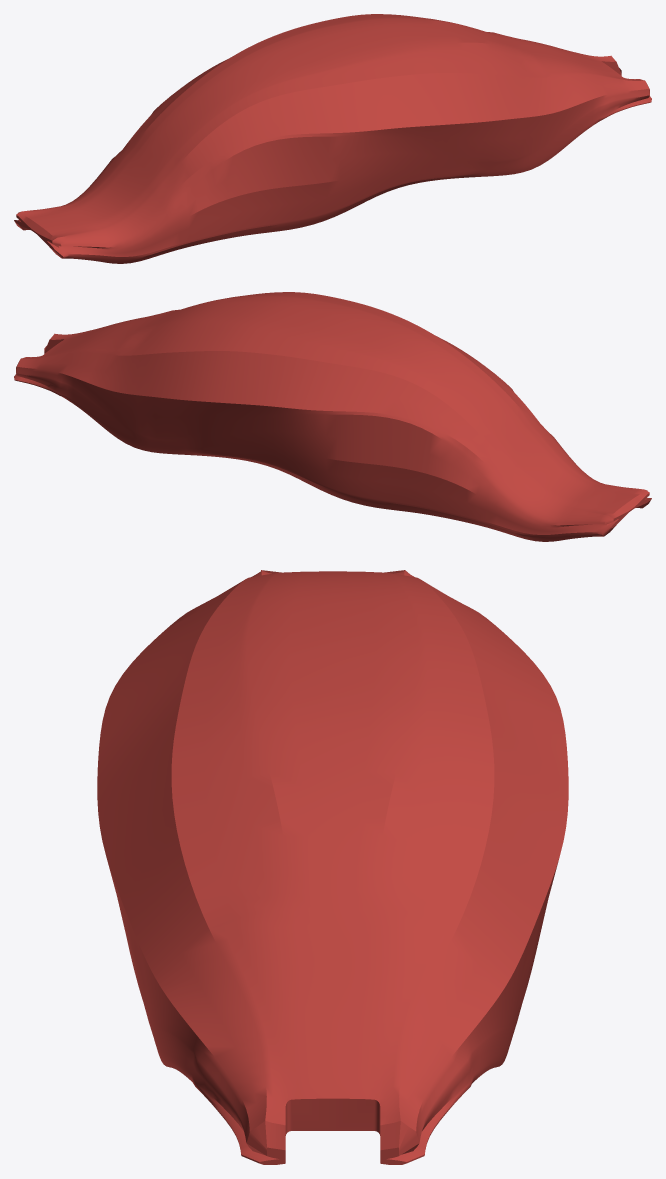
The model's file is sports_tourer_1_lod1.glb.
3 views of the same model, one above another, from view 1: azimuth 30°, elevation 25°; view 2: azimuth 150°, elevation 25°; view 3: azimuth 270°, elevation 25° (orthographic). The views are drawn at different scales.
Parts seen in each view (by area): view 1: sports_tourer_1_lod1; view 2: sports_tourer_1_lod1; view 3: sports_tourer_1_lod1.
Boxes of the visible parts, x1,y1,x2,y2 form: sports_tourer_1_lod1: (14,14,651,263); sports_tourer_1_lod1: (14,292,651,541); sports_tourer_1_lod1: (97,570,568,1164).
Bounding box in the file's own units: 1.33 × 0.3006 × 0.4533.
